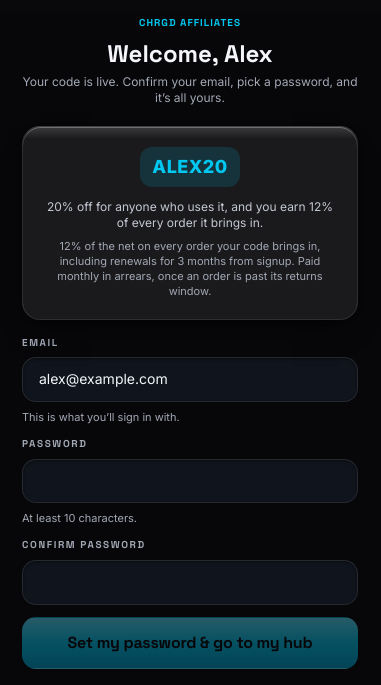
Test: an affiliate opening their link › shows the server's words when the email is already on another account
Check: the text "ALEX20" is shown, box [140,147,240,187]
Type "a-long-enough-one" into the password field labelled "Password" at (190, 481), box [22,459,358,504]
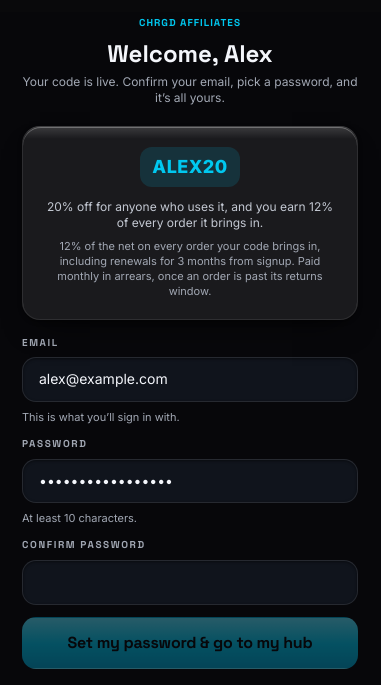
Type "a-long-enough-one" into the password field labelled "Confirm password" at (190, 582), box [22,560,358,605]
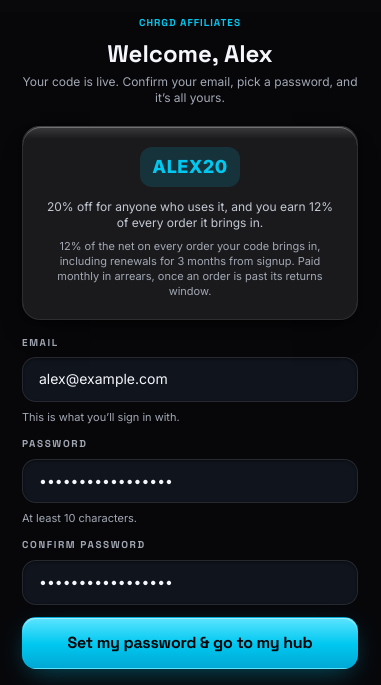
Click the button "Set my password & go to my hub" at (190, 643), box [22,617,358,669]
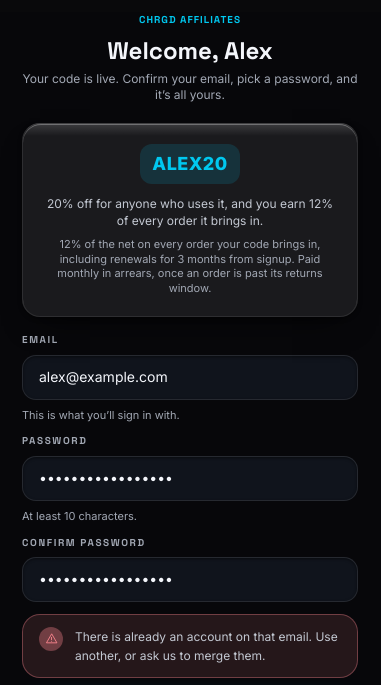
Check: the text "already an account on that email" is shown, box [75,629,338,663]
